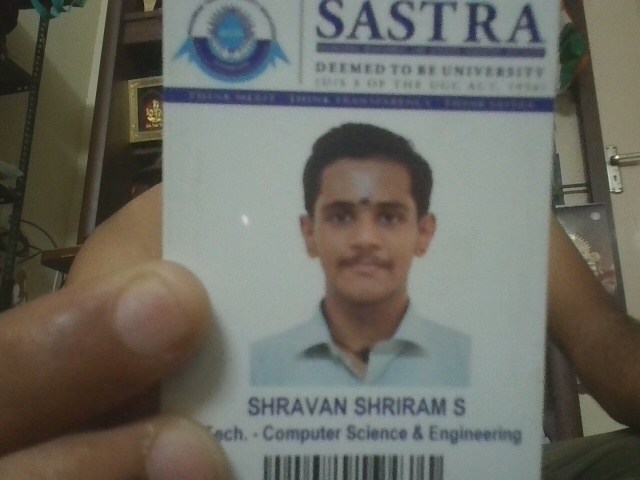fake: (294, 159, 434, 299)
